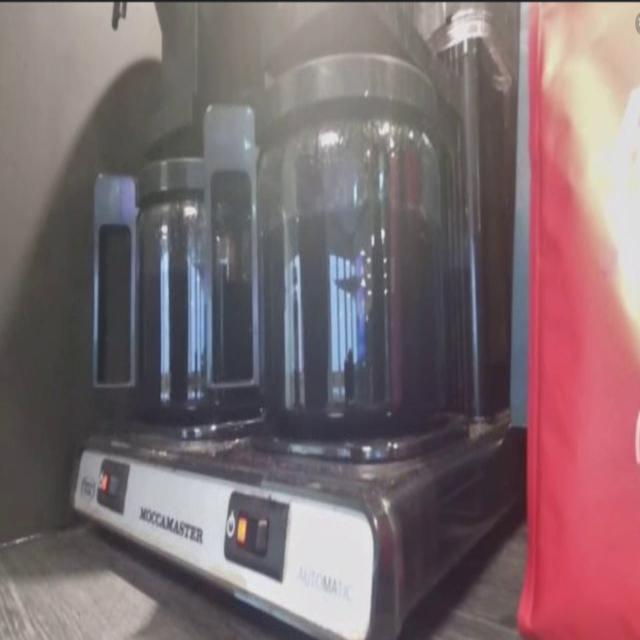coffee: (241, 44, 454, 438), (116, 131, 286, 435)
